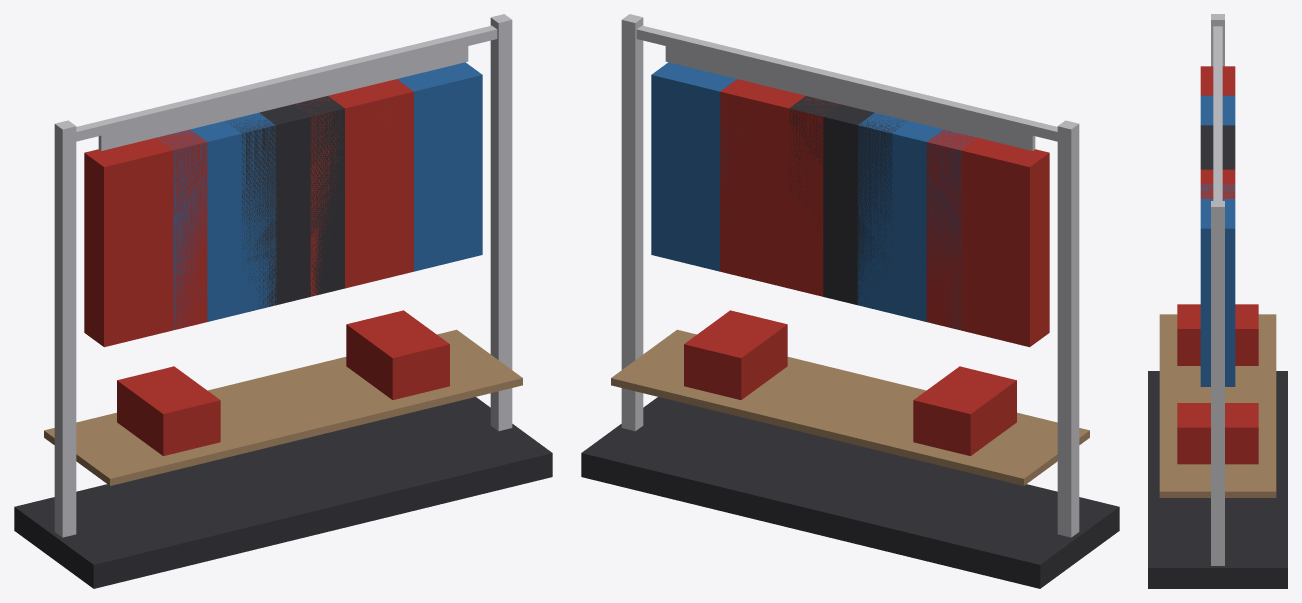
Rendered from interior_fusports_rack.glb.
The picture shows the model from 3 angles, left to right: view 1: azimuth 30°, elevation 25°; view 2: azimuth 150°, elevation 25°; view 3: azimuth 270°, elevation 25°; orthographic projection. The views are drawn at different scales.
Parts seen in each view (by area): view 1: interior_fusports_rack; view 2: interior_fusports_rack; view 3: interior_fusports_rack.
Boxes of the visible parts, box(x1,y1,x2,y2) form: interior_fusports_rack: box(14, 14, 552, 588); interior_fusports_rack: box(581, 14, 1119, 588); interior_fusports_rack: box(1148, 14, 1287, 588).
Bounding box in the file's own units: 2 × 1.8 × 0.6.
Materials: 1 (1 with a texture image).
